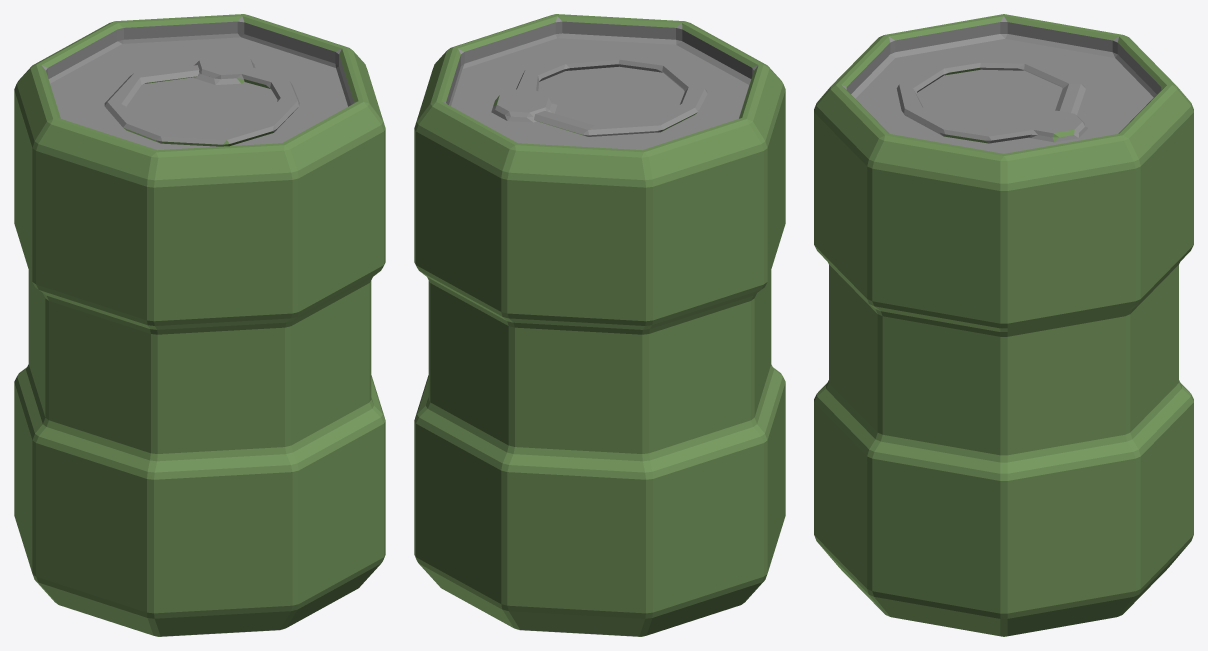
File: energos.fbx
3 renders of one model, left to right at view 1: azimuth 30°, elevation 25°; view 2: azimuth 150°, elevation 25°; view 3: azimuth 270°, elevation 25°, orthographic.
Parts seen in each view (by area): view 1: Cylinder; view 2: Cylinder; view 3: Cylinder.
Boxes of the visible parts, box(x1,y1,x2,y2) form: Cylinder: box(14, 14, 385, 636); Cylinder: box(414, 14, 785, 636); Cylinder: box(814, 14, 1193, 636).
Bounding box in the file's own units: 198 × 279 × 198.
